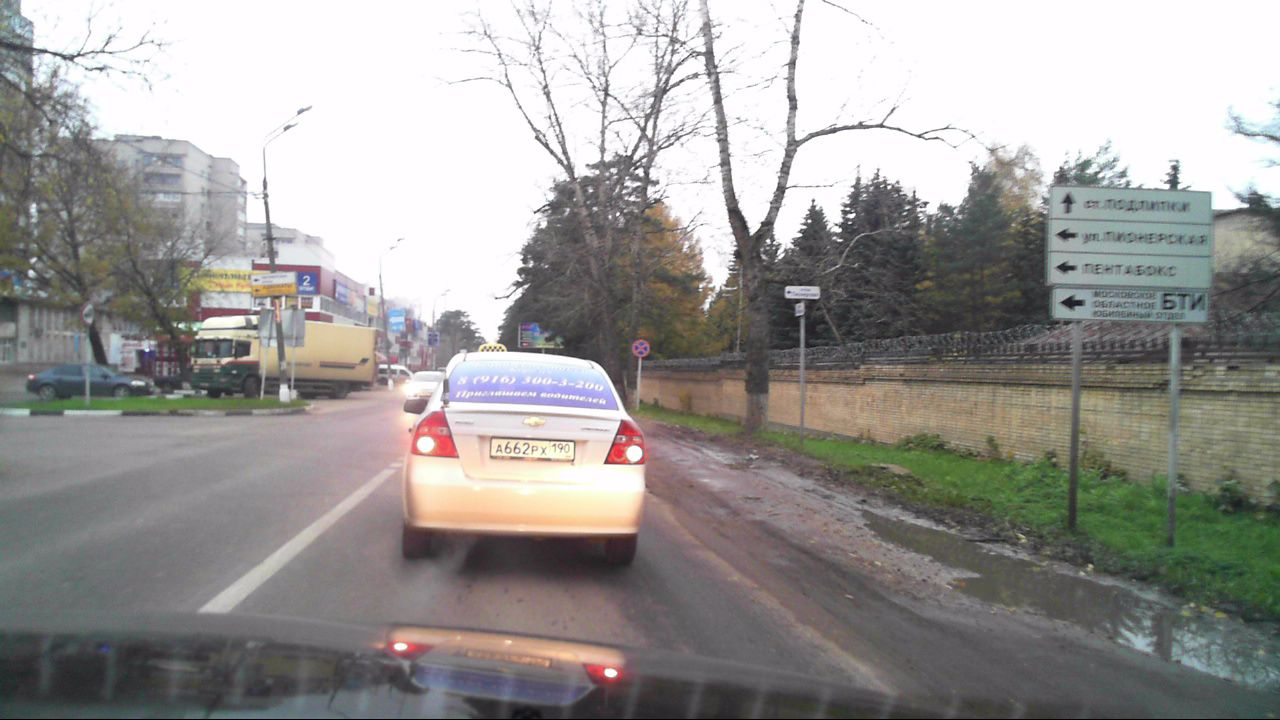No Parking: (632, 339, 650, 357)
